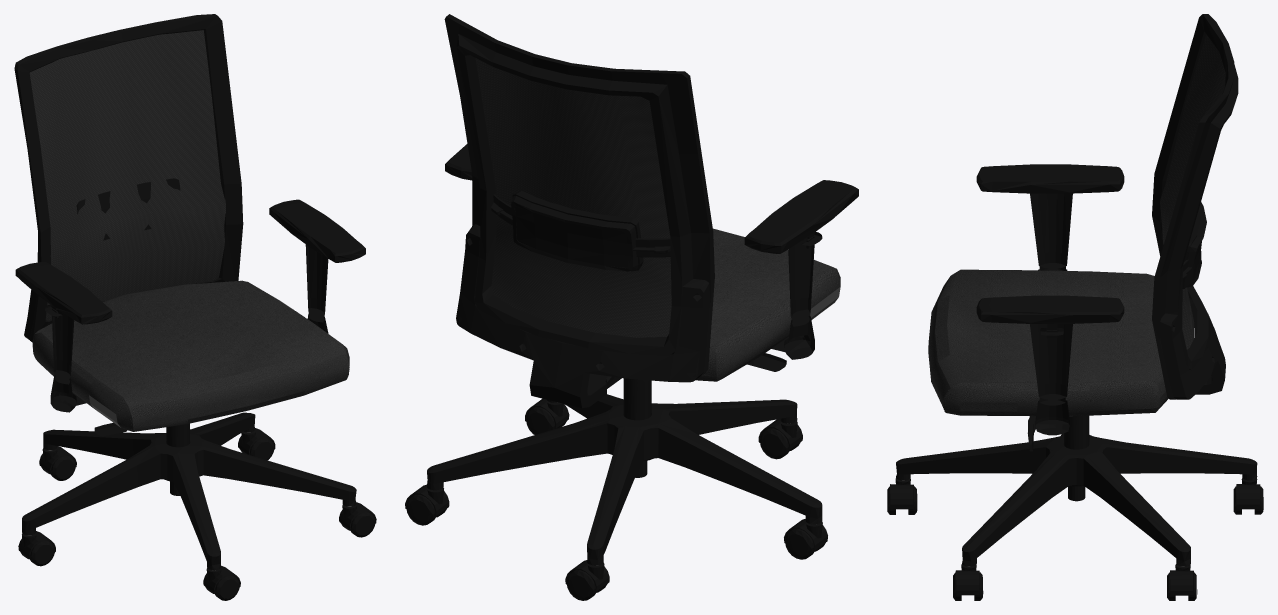
The model's file is cadeira_grid_esp_alto_sem_apoio_frisokar_agave.glb.
3 renders of one model, left to right at view 1: azimuth 30°, elevation 25°; view 2: azimuth 150°, elevation 25°; view 3: azimuth 270°, elevation 25°, orthographic. The views are drawn at different scales.
Visible parts, largest first — view 1: skp5260_1, ESTRUTURA, grid_enco5, grid_apoi2, grid_apoi0; view 2: skp5260_1, grid_enco5, ESTRUTURA, grid_apoi2, grid_apoi0, grid_enco2; view 3: skp5260_1, ESTRUTURA, grid_enco5, grid_apoi2, grid_apoi0.
Part boxes in pixels (x1=…): skp5260_1: x1=29, y1=30, x2=349, y2=431; ESTRUTURA: x1=18, y1=178, x2=376, y2=598; grid_enco5: x1=14, y1=14, x2=243, y2=342; grid_apoi2: x1=15, y1=199, x2=365, y2=324; grid_apoi0: x1=45, y1=244, x2=328, y2=412; skp5260_1: x1=475, y1=58, x2=840, y2=381; grid_enco5: x1=444, y1=14, x2=714, y2=408; ESTRUTURA: x1=405, y1=191, x2=827, y2=598; grid_apoi2: x1=445, y1=144, x2=858, y2=253; grid_apoi0: x1=784, y1=232, x2=822, y2=359; grid_enco2: x1=491, y1=194, x2=670, y2=257; skp5260_1: x1=928, y1=34, x2=1225, y2=415; ESTRUTURA: x1=890, y1=202, x2=1263, y2=597; grid_enco5: x1=1152, y1=14, x2=1238, y2=399; grid_apoi2: x1=976, y1=164, x2=1124, y2=323; grid_apoi0: x1=1030, y1=193, x2=1072, y2=435.
Size of the model in its own units: 0.6399 by 0.8992 by 0.656.
16 materials, 11 textured.
